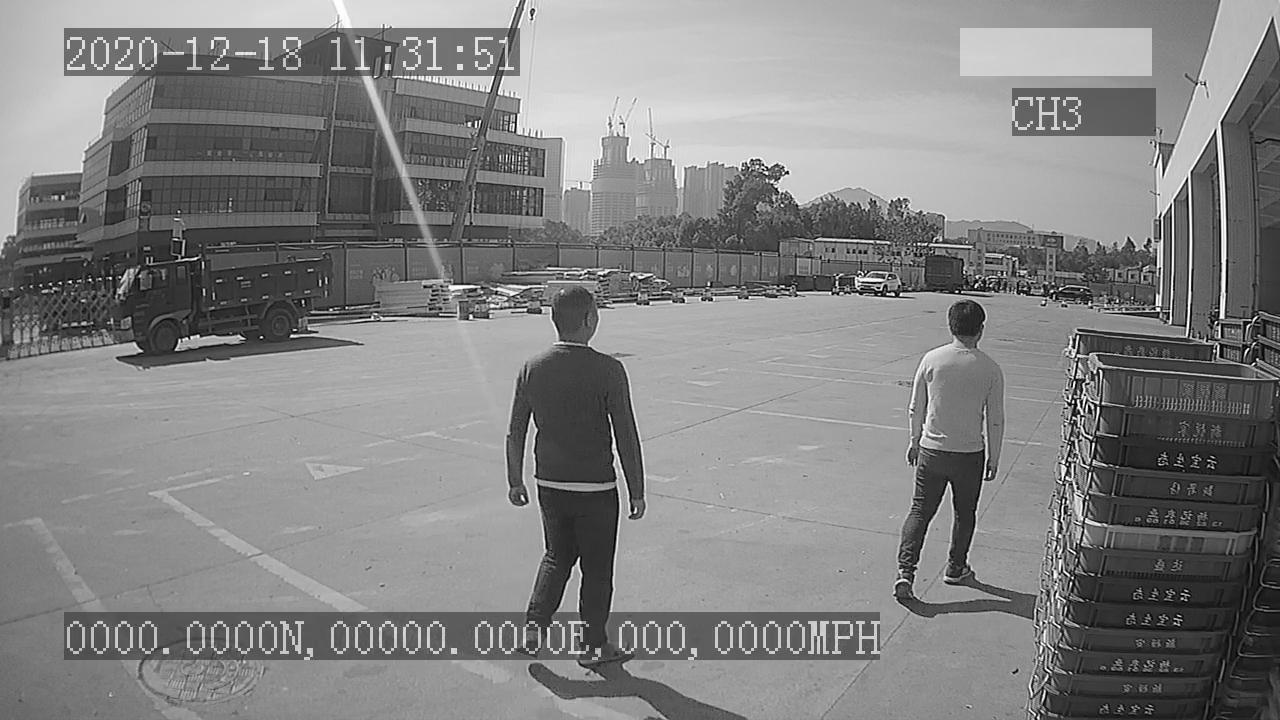person: (892, 295, 1007, 604)
